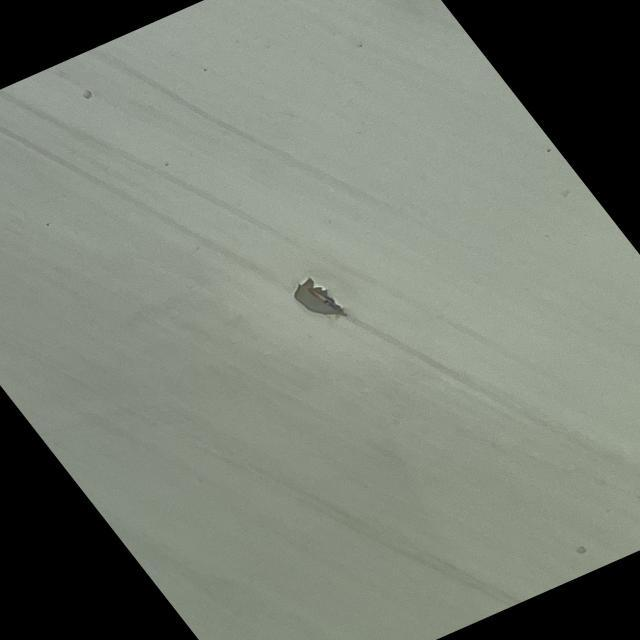Crack: (301, 286, 361, 336)
